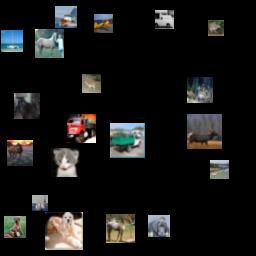airplane: (94, 14, 113, 33)
bird: (208, 20, 224, 36)
cat: (51, 148, 80, 177), (14, 93, 40, 119)
deer: (187, 114, 222, 149), (187, 77, 213, 103), (82, 74, 101, 93)
dog: (45, 212, 83, 250), (148, 215, 170, 237), (4, 216, 26, 238)
ship: (1, 30, 23, 52), (55, 6, 77, 28), (210, 160, 229, 179), (32, 195, 48, 211)
truck: (110, 123, 145, 158), (67, 114, 96, 143), (155, 10, 174, 29)
